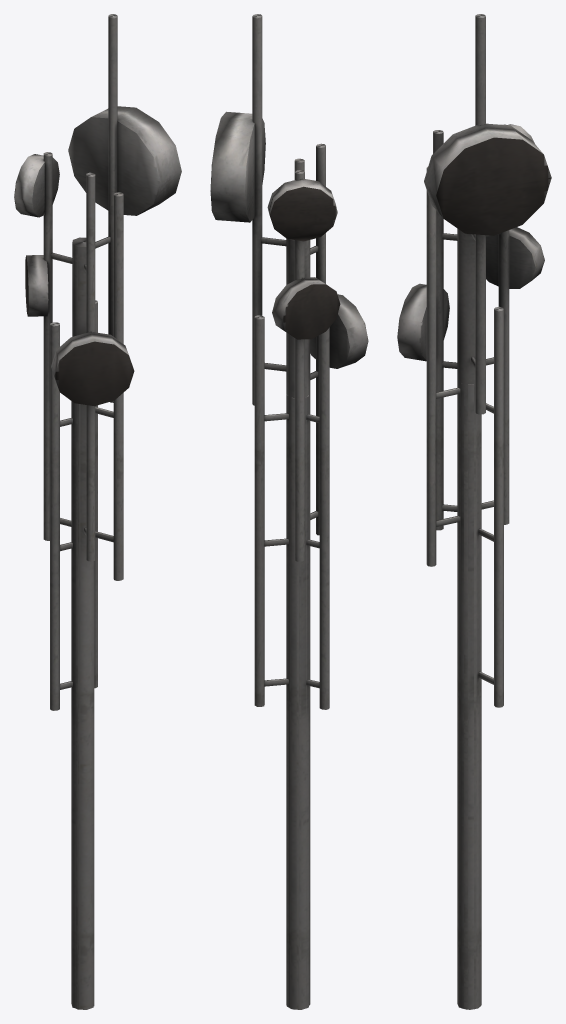
Rendered from antennen_01.fbx.
3 renders of one model, left to right at view 1: azimuth 30°, elevation 25°; view 2: azimuth 150°, elevation 25°; view 3: azimuth 270°, elevation 25°, orthographic. The views are drawn at different scales.
Visible parts, largest first — view 1: Mesh, Mesh_ncl1_1; view 2: Mesh, Mesh_ncl1_1; view 3: Mesh, Mesh_ncl1_1.
Boxes of the visible parts, <box> form: Mesh: <box>14,14,181,1009</box>; Mesh_ncl1_1: <box>50,192,123,1009</box>; Mesh: <box>210,14,368,1009</box>; Mesh_ncl1_1: <box>254,158,329,1009</box>; Mesh: <box>397,14,551,1009</box>; Mesh_ncl1_1: <box>426,166,503,1009</box>.
Bounding box in the file's own units: 178 × 1213 × 169.
